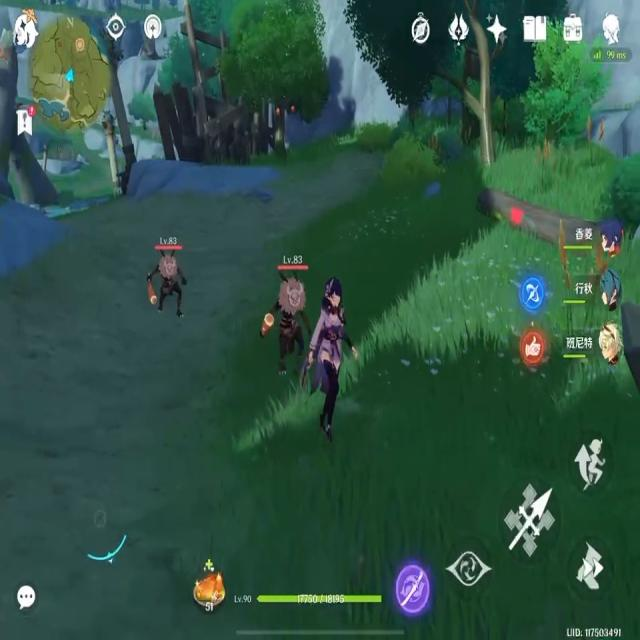genshin-hilichurls: (265, 267, 311, 361), (143, 245, 188, 331)
